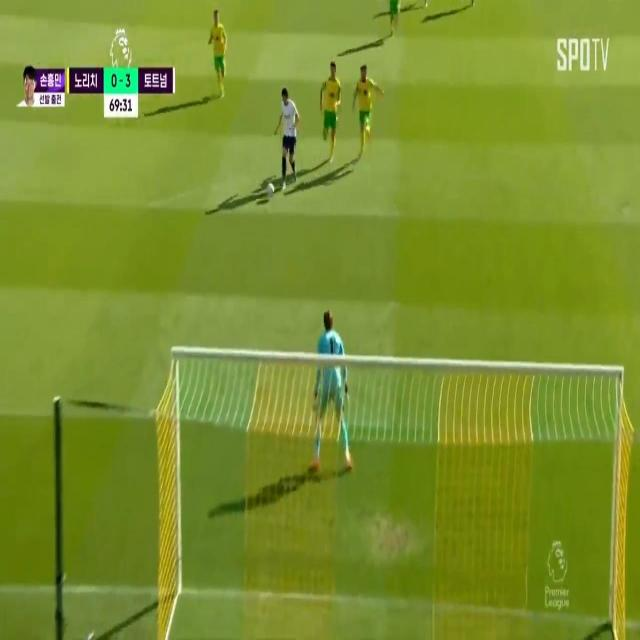ball: (266, 175, 277, 202)
player: (275, 87, 302, 178), (321, 62, 341, 162), (208, 8, 228, 98), (355, 65, 375, 150), (401, 32, 401, 34)
